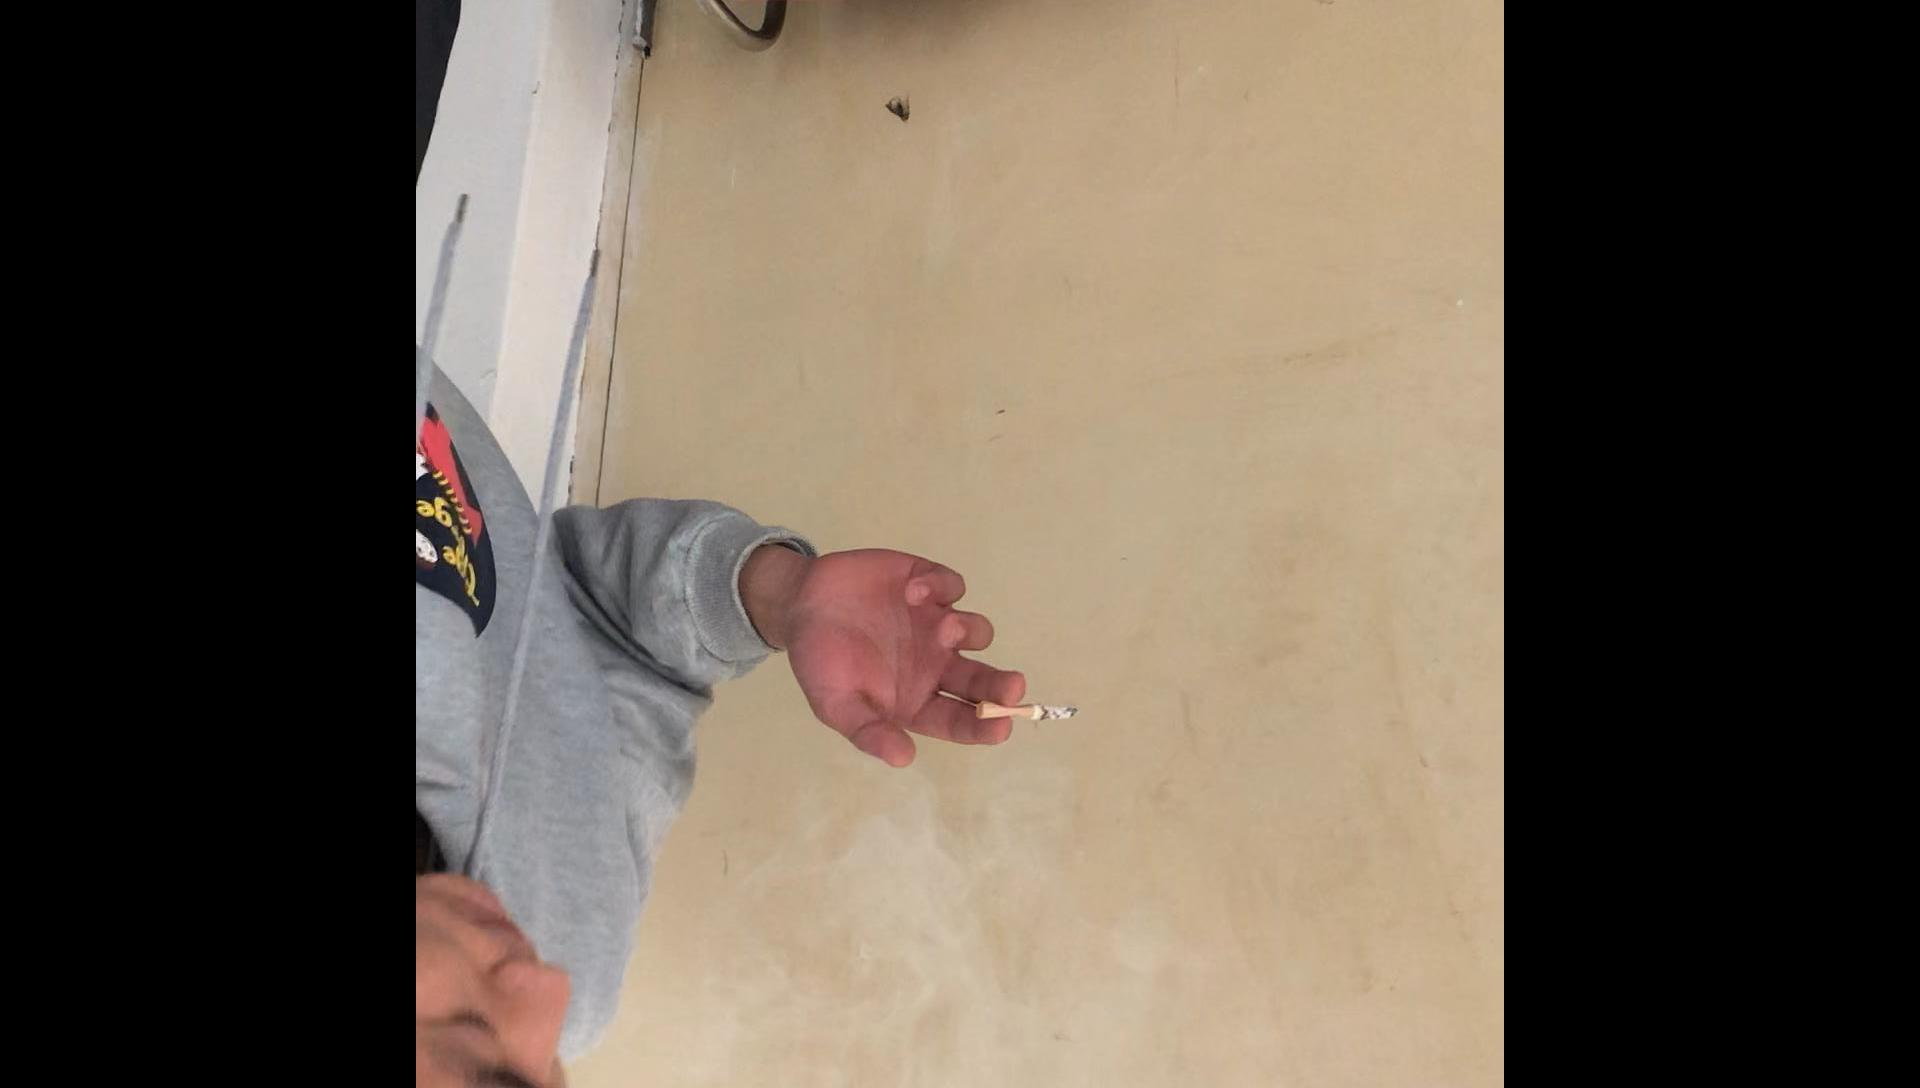Cigarette: (964, 699, 1087, 725)
